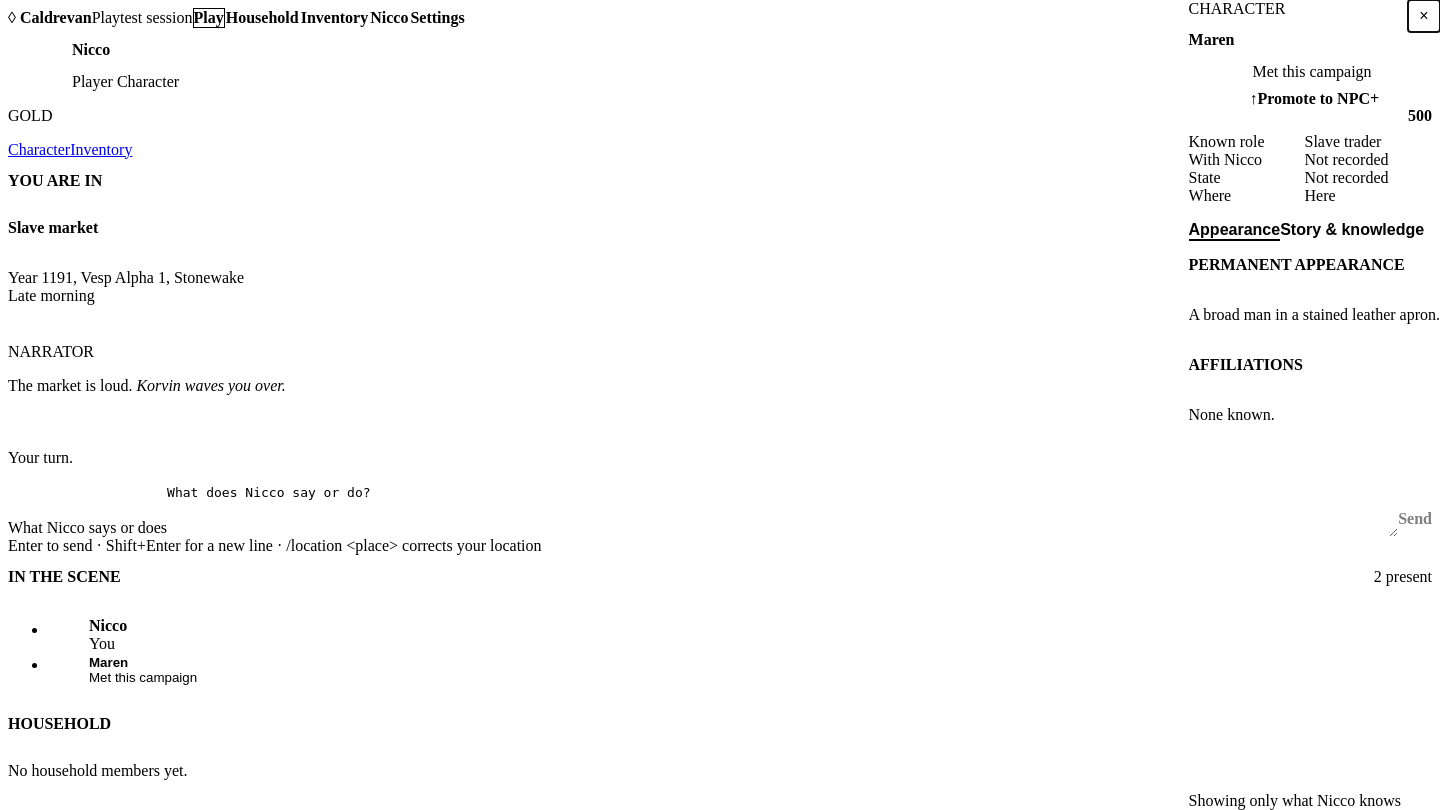
character drawer keyboard › closes from the backdrop as well
Earlier steps of the test are not shown.
Press the mouse on the button named "Close Maren": coordinates (720, 405) [0,0,1439,809]
Press the mouse on the button named "Close Maren": coordinates (720, 405) [0,0,1439,809]
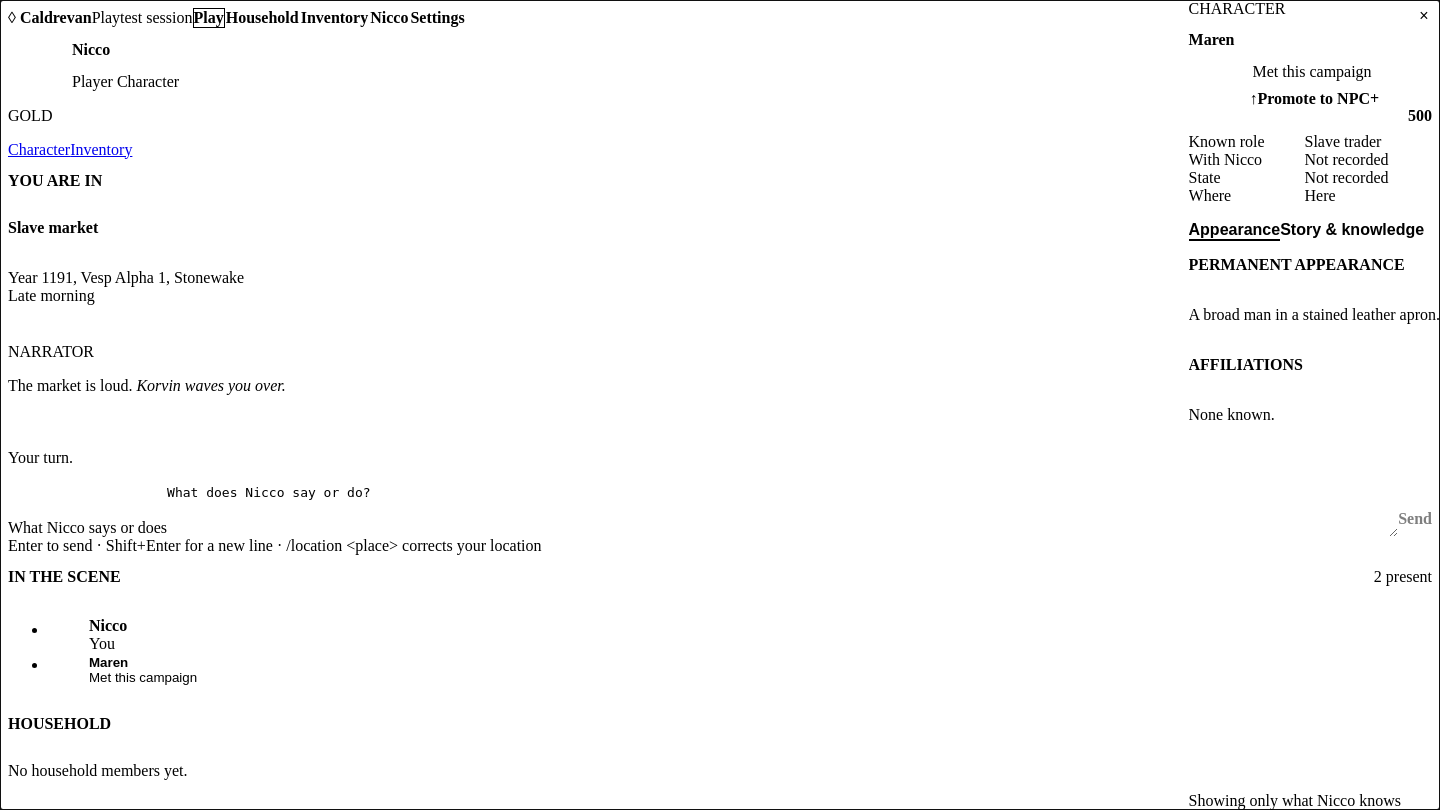
Click the button named "Close Maren": coordinates (720, 405) [0,0,1439,809]
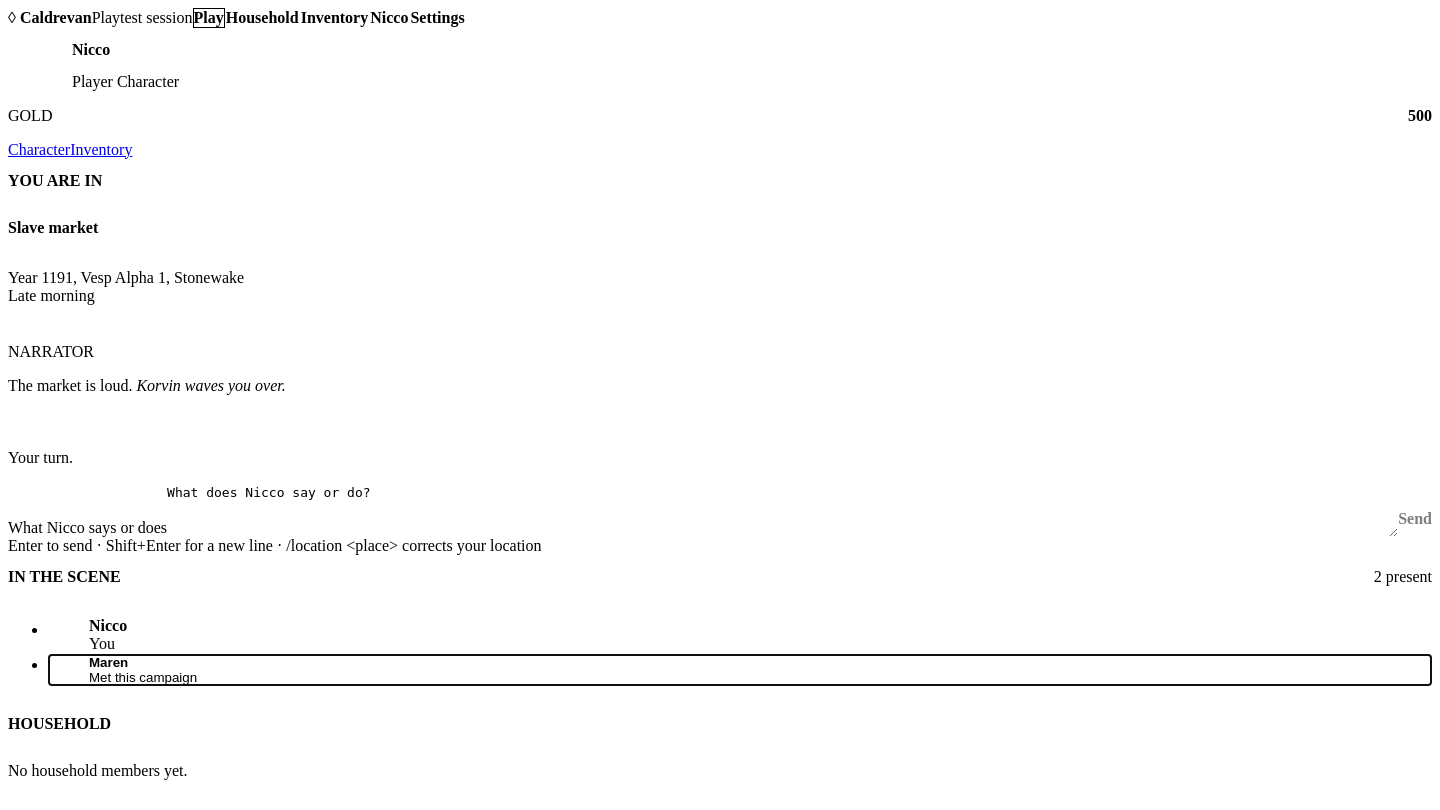
expect the dialog is gone: met
